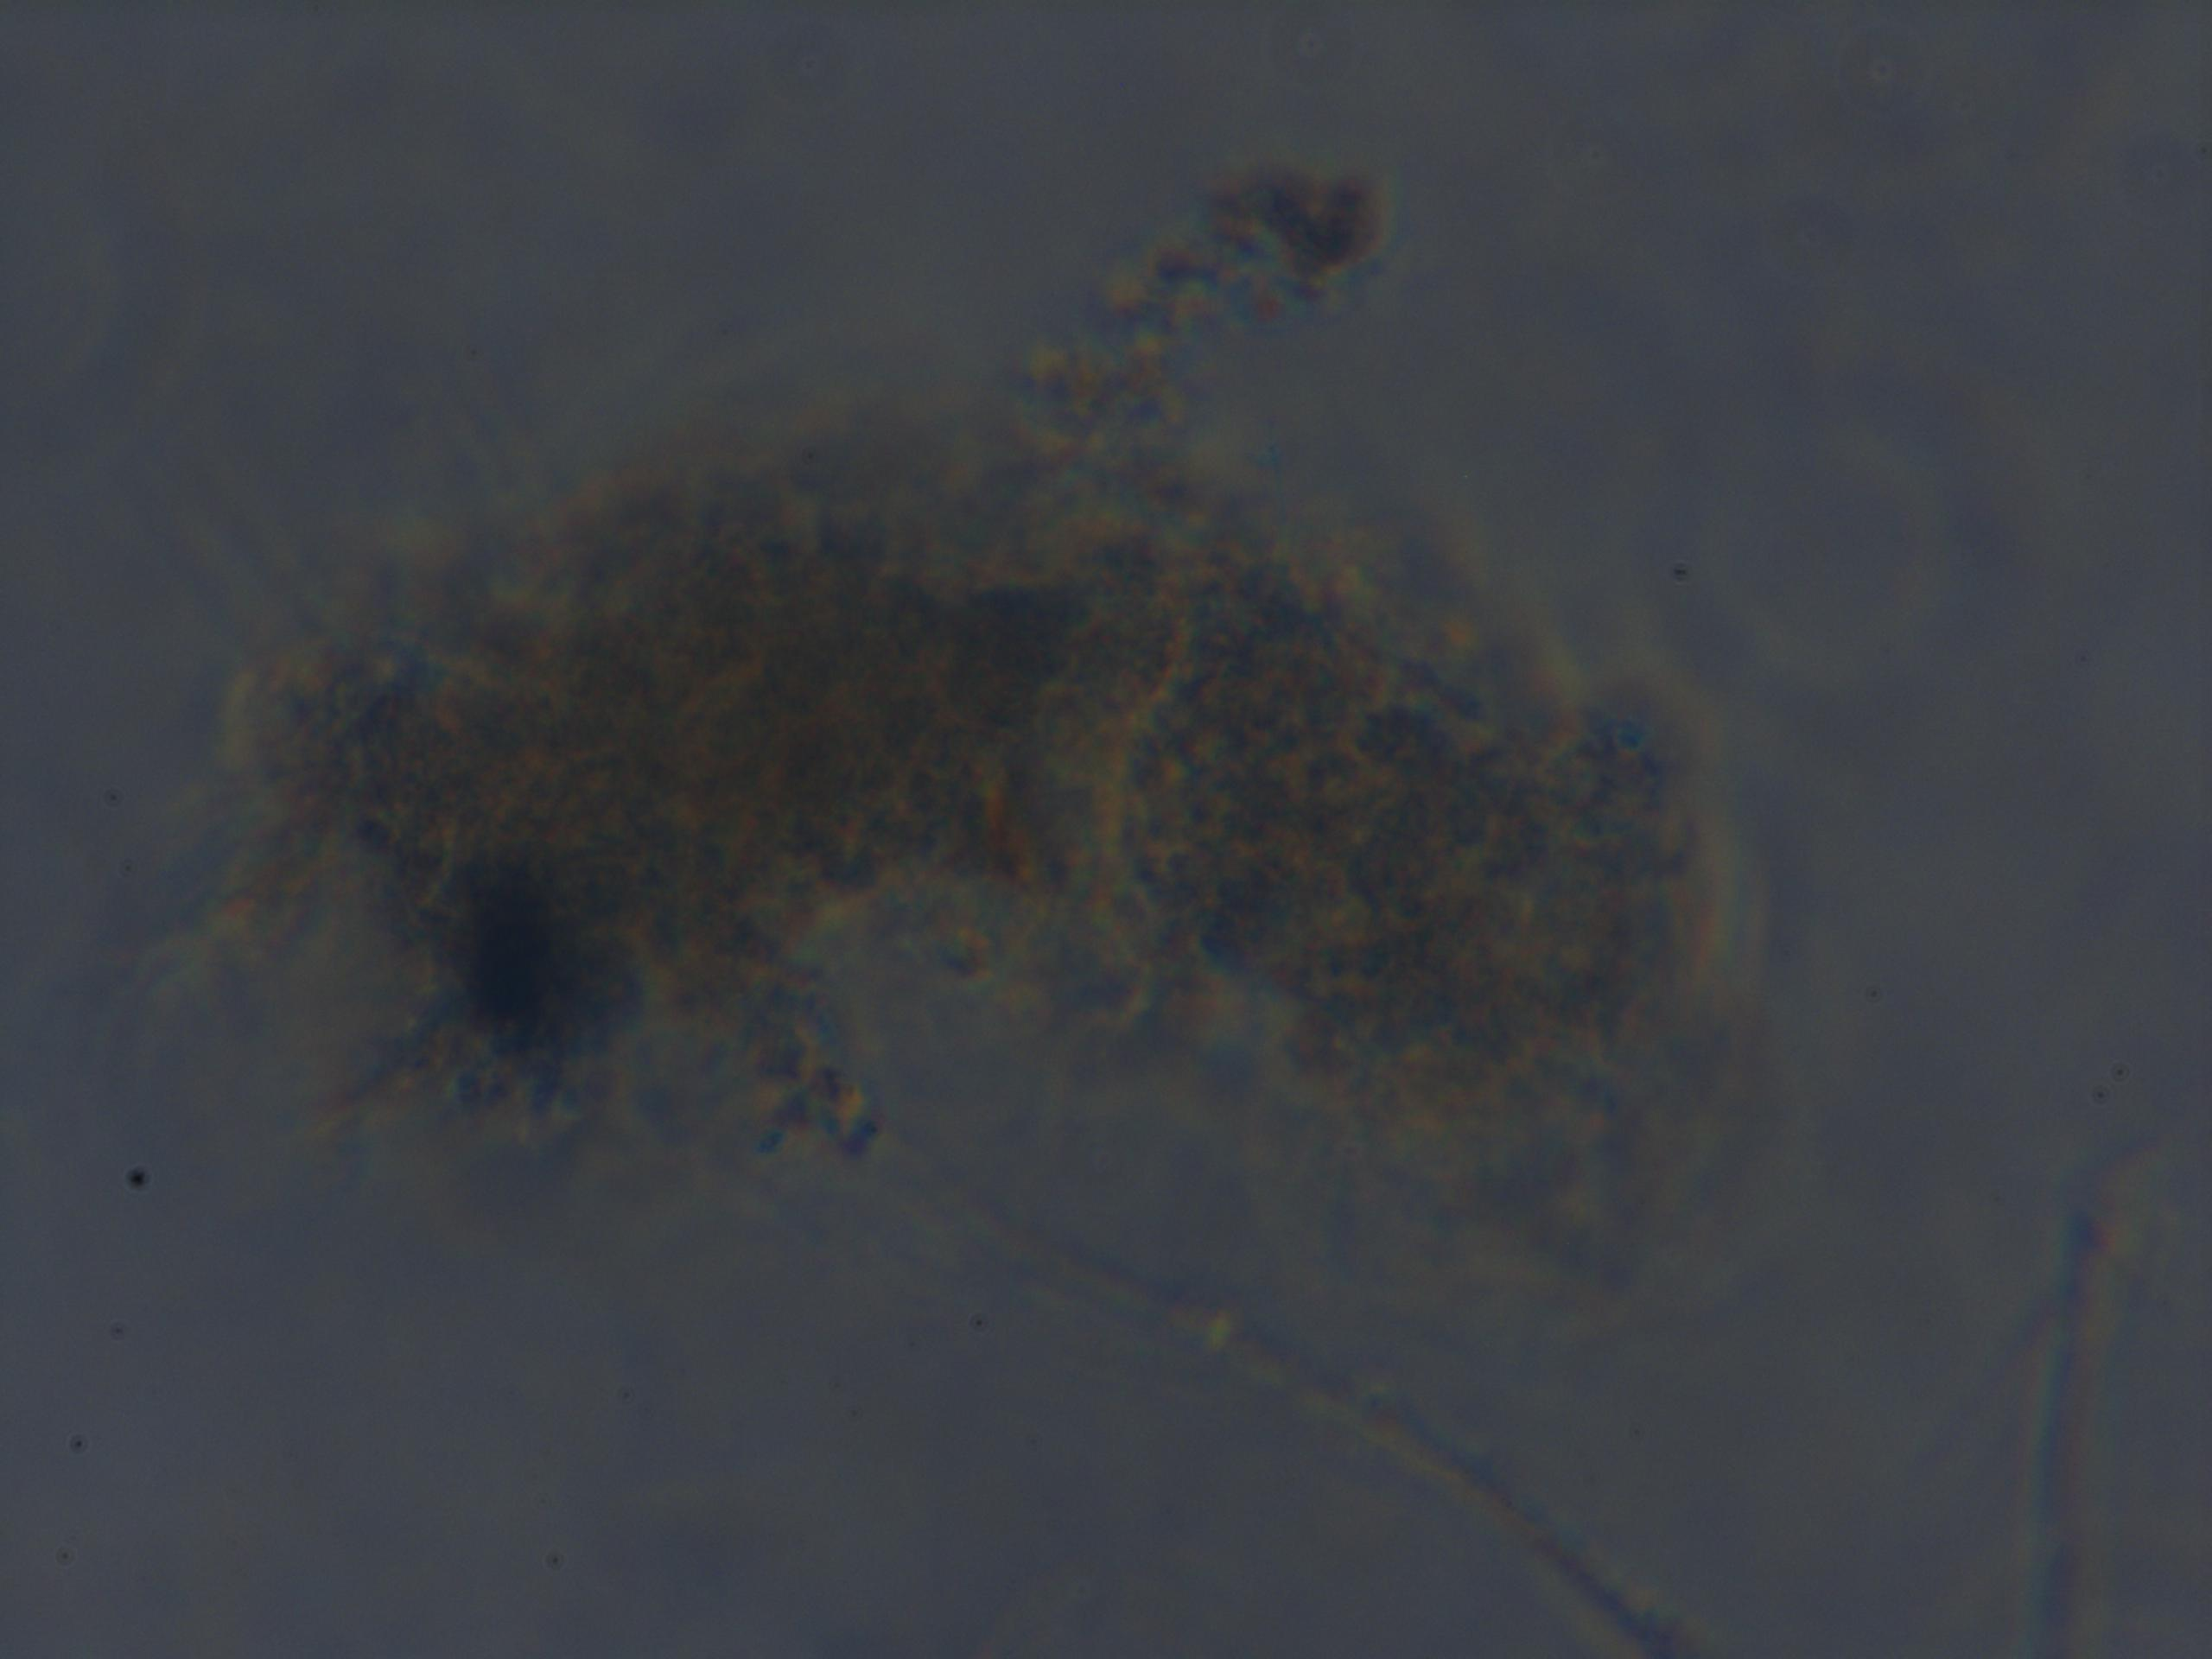filament: (911, 1185, 1733, 1659), (2008, 1136, 2137, 1659)
